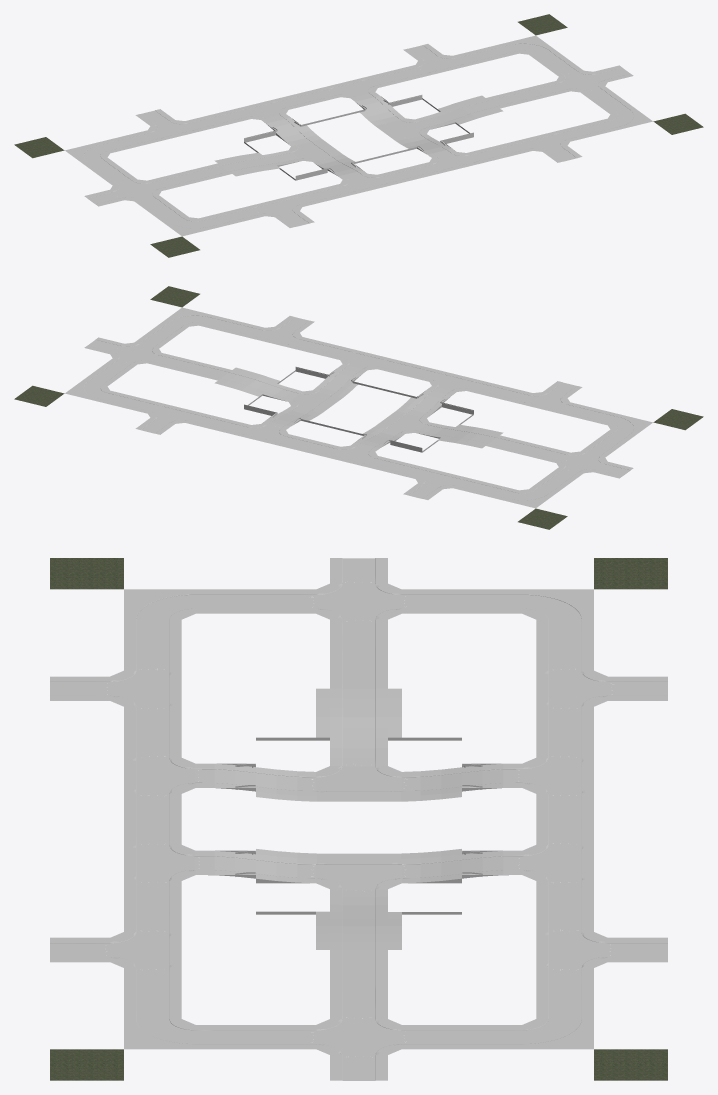
The model's file is Double-Block-11.fbx.
The picture shows the model from 3 angles, top to bottom: view 1: azimuth 30°, elevation 25°; view 2: azimuth 150°, elevation 25°; view 3: azimuth 270°, elevation 25°; orthographic projection. The views are drawn at different scales.
Parts seen in each view (by area): view 1: Double-Block-01.001, Double-Block-01, Double-Block-01-Sidewalk.001, Double-Block-01-Sidewalk; view 2: Double-Block-01.001, Double-Block-01, Double-Block-01-Sidewalk.001, Double-Block-01-Sidewalk; view 3: Double-Block-01, Double-Block-01.001, Double-Block-01-Sidewalk, Double-Block-01-Sidewalk.001.
Part boxes in pixels (x1,y1,x2,y2): Double-Block-01.001: (303, 14, 703, 176); Double-Block-01: (14, 95, 414, 257); Double-Block-01-Sidewalk.001: (300, 35, 652, 178); Double-Block-01-Sidewalk: (65, 93, 417, 236); Double-Block-01.001: (14, 286, 414, 448); Double-Block-01: (303, 367, 703, 529); Double-Block-01-Sidewalk.001: (65, 307, 416, 450); Double-Block-01-Sidewalk: (300, 365, 652, 508); Double-Block-01: (50, 558, 667, 819); Double-Block-01.001: (50, 819, 667, 1080); Double-Block-01-Sidewalk: (50, 558, 667, 819); Double-Block-01-Sidewalk.001: (50, 819, 667, 1080).
Size of what is drawn, in the model's own units: 600 by 5.29 by 300.
